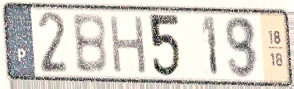1: (200, 14, 220, 80)
2: (36, 9, 70, 75)
5: (146, 13, 184, 80)
9: (223, 14, 261, 81)
B: (70, 12, 110, 77)
H: (108, 13, 149, 76)
